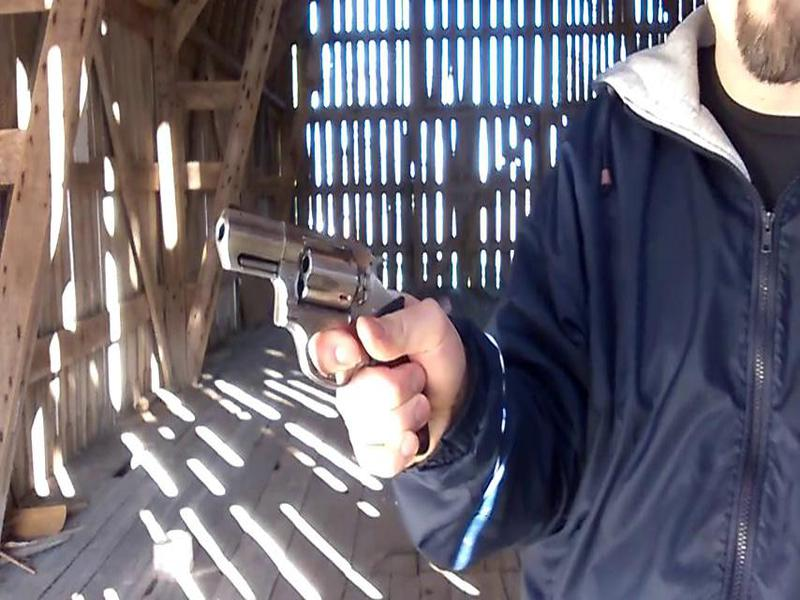Revolver: (220, 177, 493, 459)
